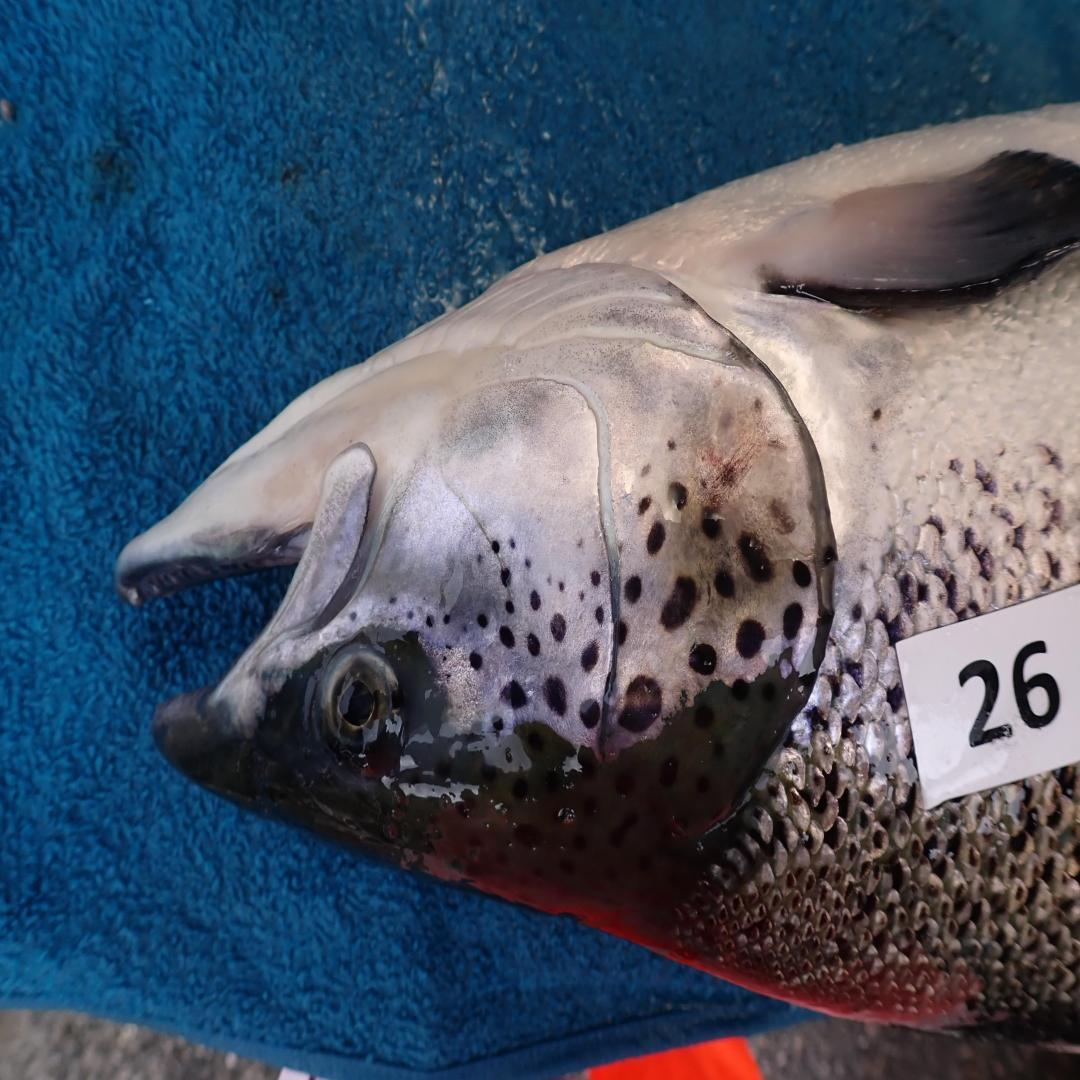spot: (618, 675, 662, 731), (660, 577, 698, 630), (738, 532, 772, 582), (736, 619, 766, 658), (770, 498, 795, 534), (690, 644, 717, 675), (544, 678, 567, 714), (783, 602, 804, 641), (502, 681, 527, 709), (645, 520, 664, 554), (580, 641, 599, 672), (580, 700, 601, 728), (669, 481, 688, 509), (793, 560, 812, 588), (702, 512, 721, 537), (551, 613, 567, 641), (624, 577, 641, 602), (715, 574, 734, 596), (500, 624, 515, 647), (470, 714, 485, 737), (720, 465, 736, 486), (637, 495, 652, 515), (527, 633, 540, 655), (618, 619, 629, 644), (468, 652, 483, 669), (475, 548, 487, 568), (639, 461, 652, 478), (529, 591, 540, 610), (500, 568, 510, 588), (823, 546, 835, 562), (591, 571, 601, 588), (667, 436, 677, 453), (477, 613, 489, 627), (504, 599, 515, 613), (595, 605, 603, 624), (494, 717, 504, 731), (388, 593, 399, 605), (557, 577, 565, 593), (491, 540, 500, 554), (523, 557, 532, 568), (754, 398, 762, 410), (426, 615, 434, 626), (350, 610, 356, 622), (509, 537, 515, 549), (700, 479, 707, 489), (444, 614, 450, 624), (546, 574, 551, 585), (579, 591, 585, 600), (408, 611, 414, 620), (463, 624, 467, 634), (445, 673, 451, 679), (446, 645, 452, 650), (442, 656, 446, 663)
